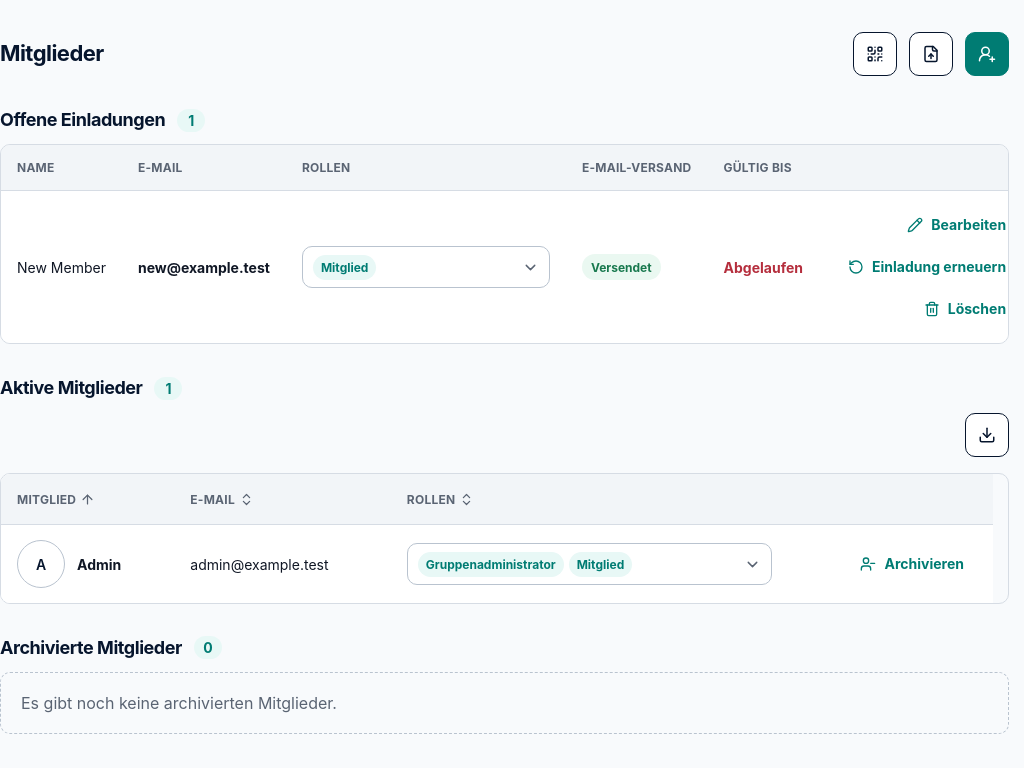
Scenario: MembersPanel invitations › explains link-only fallback when SMTP delivery is not configured
Click the button named "Mitglied einladen" at x=987, y=54, box [965, 32, 1009, 76]
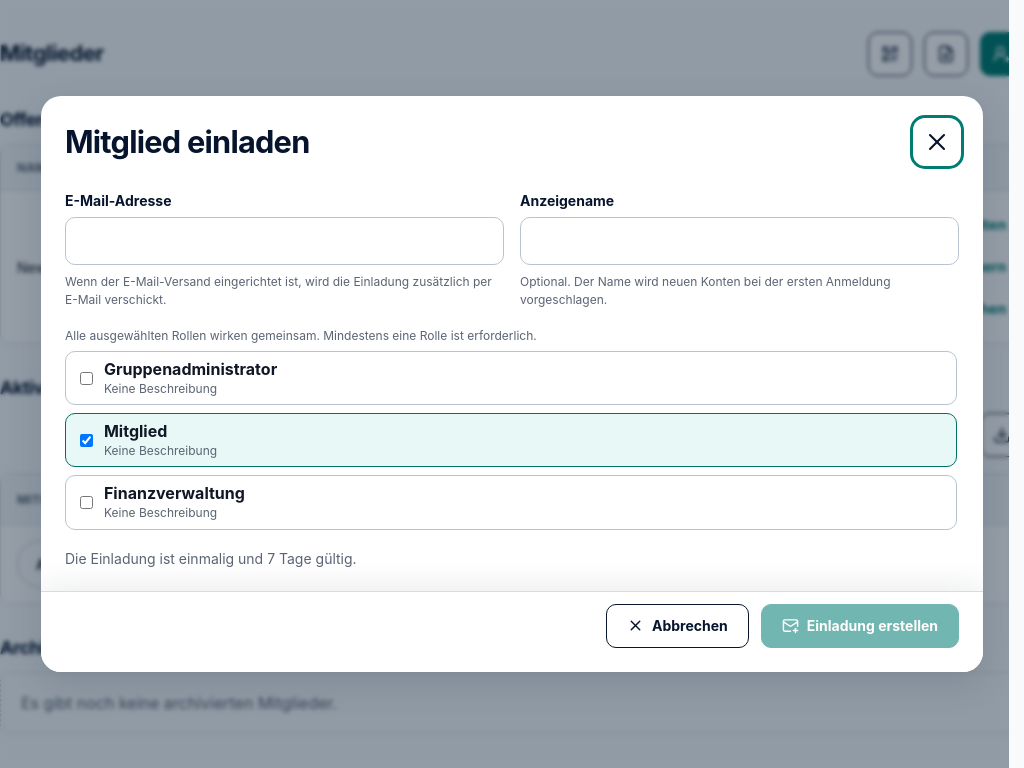
Type "link-only@example.test" into the field labelled "E-Mail-Adresse" at x=284, y=241, box [65, 217, 504, 265]
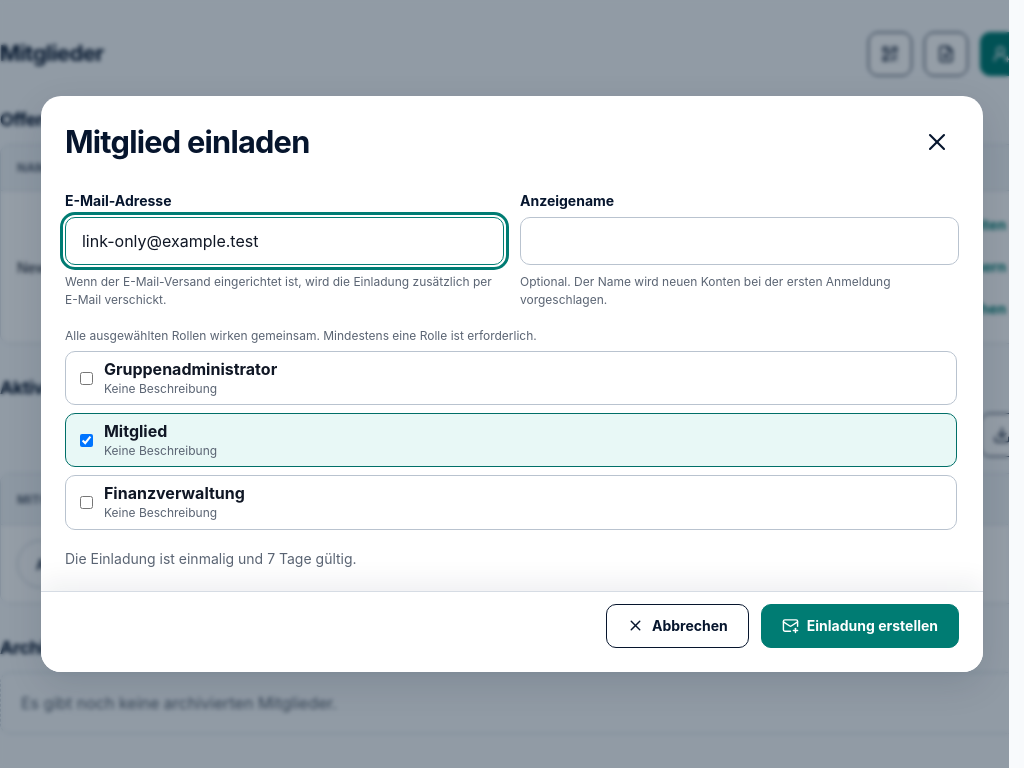
Click the button "Einladung erstellen" at x=860, y=626, box [761, 604, 959, 648]
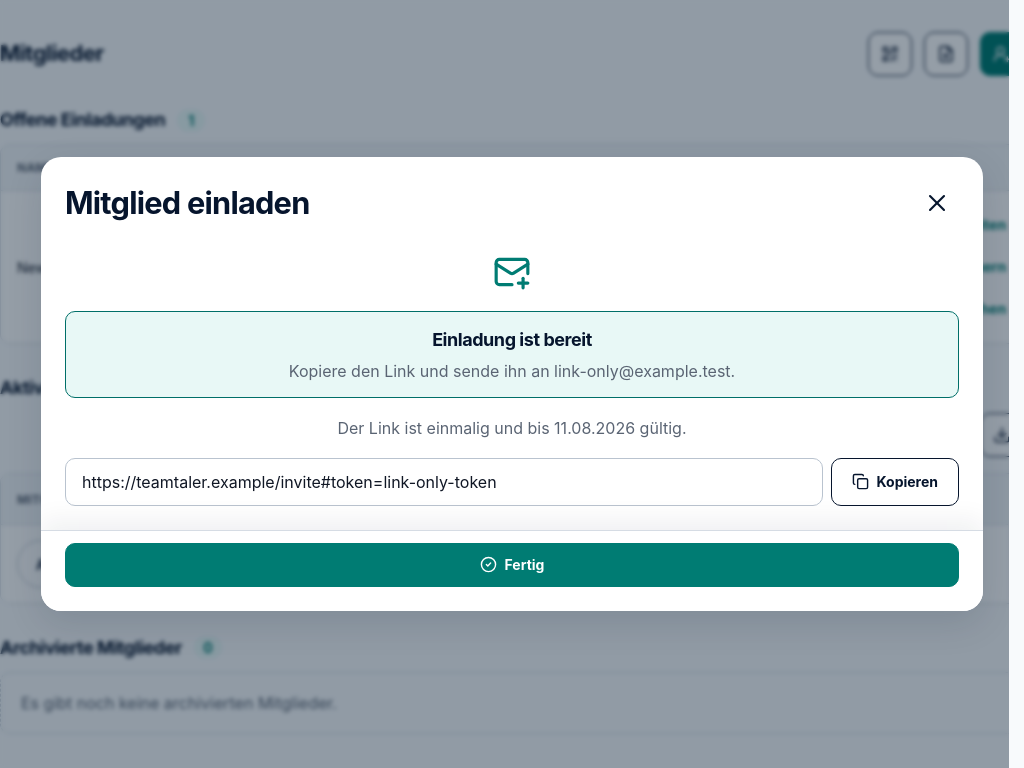
Result: the heading "Einladung ist bereit" is shown at [432, 329, 592, 350]
Result: the field named "Einladungslink" holds "https://teamtaler.example/invite#token=link-only-token" at [65, 458, 823, 506]
